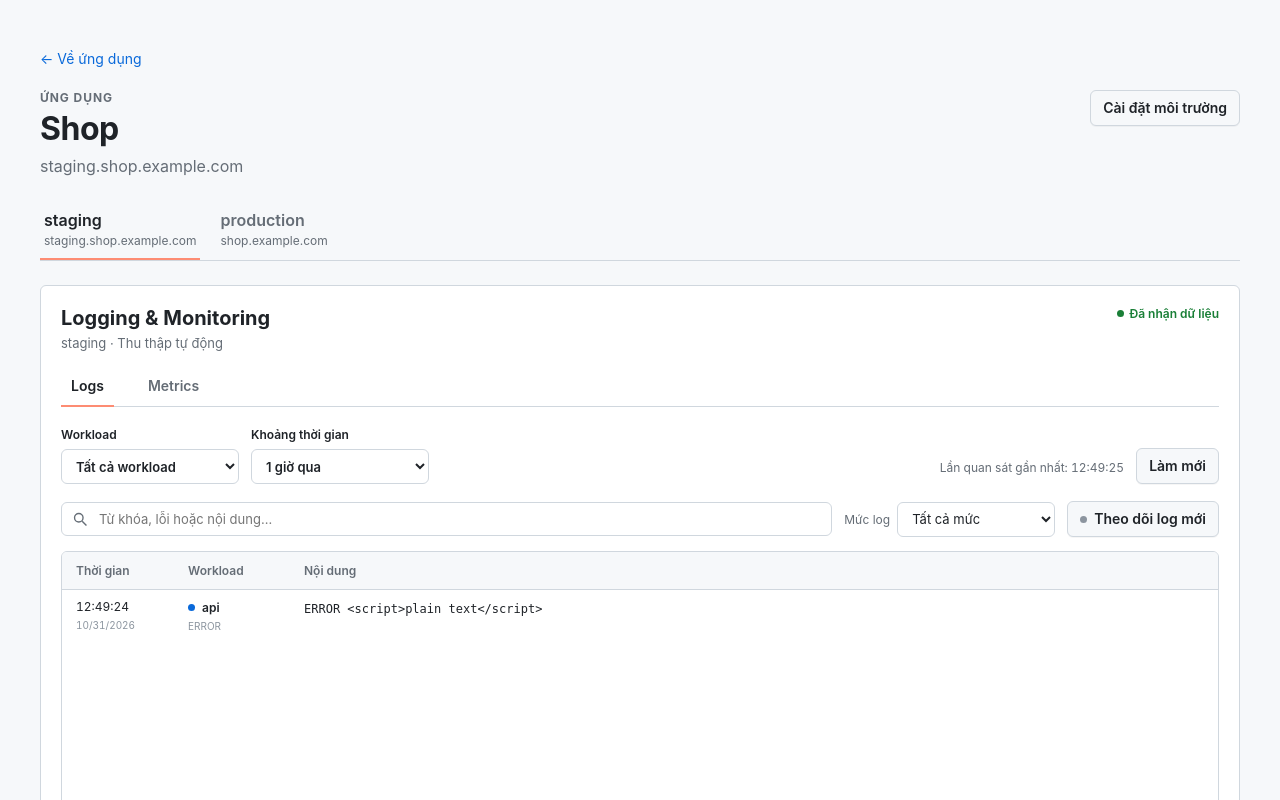
Test case: pauses at the latest followed interval without rewinding received logs
Check: the button "ERROR <script>plain text</script>" is shown, box [304, 599, 1204, 619]
What coordinates should you click on to do the following:
click the button "Theo dõi log mới"
I would click on:
 (1143, 519)
Its box is [1067, 501, 1219, 537].
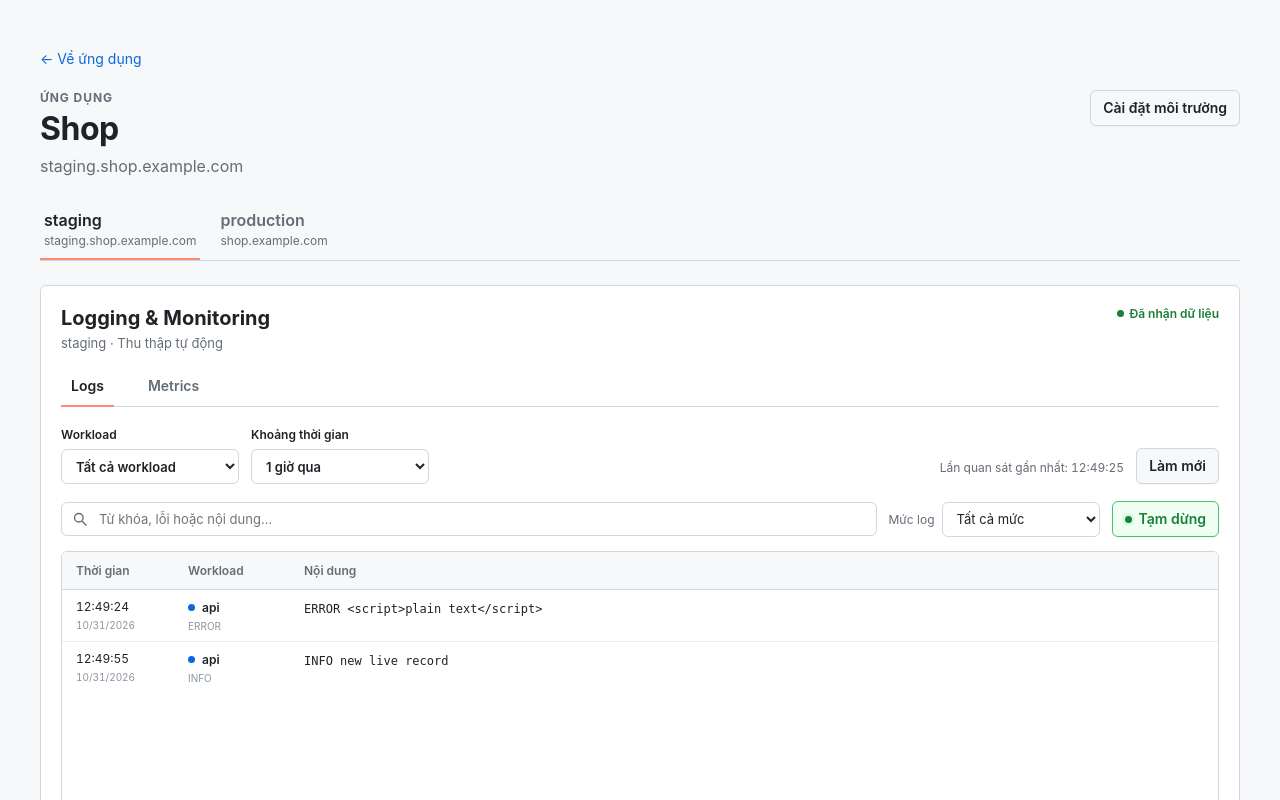
Check: the button "INFO new live record" is shown, box [304, 651, 1204, 671]
What coordinates should you click on to do the following:
click the button "Tạm dừng"
I would click on:
 (1165, 519)
Its box is [1112, 501, 1219, 537].
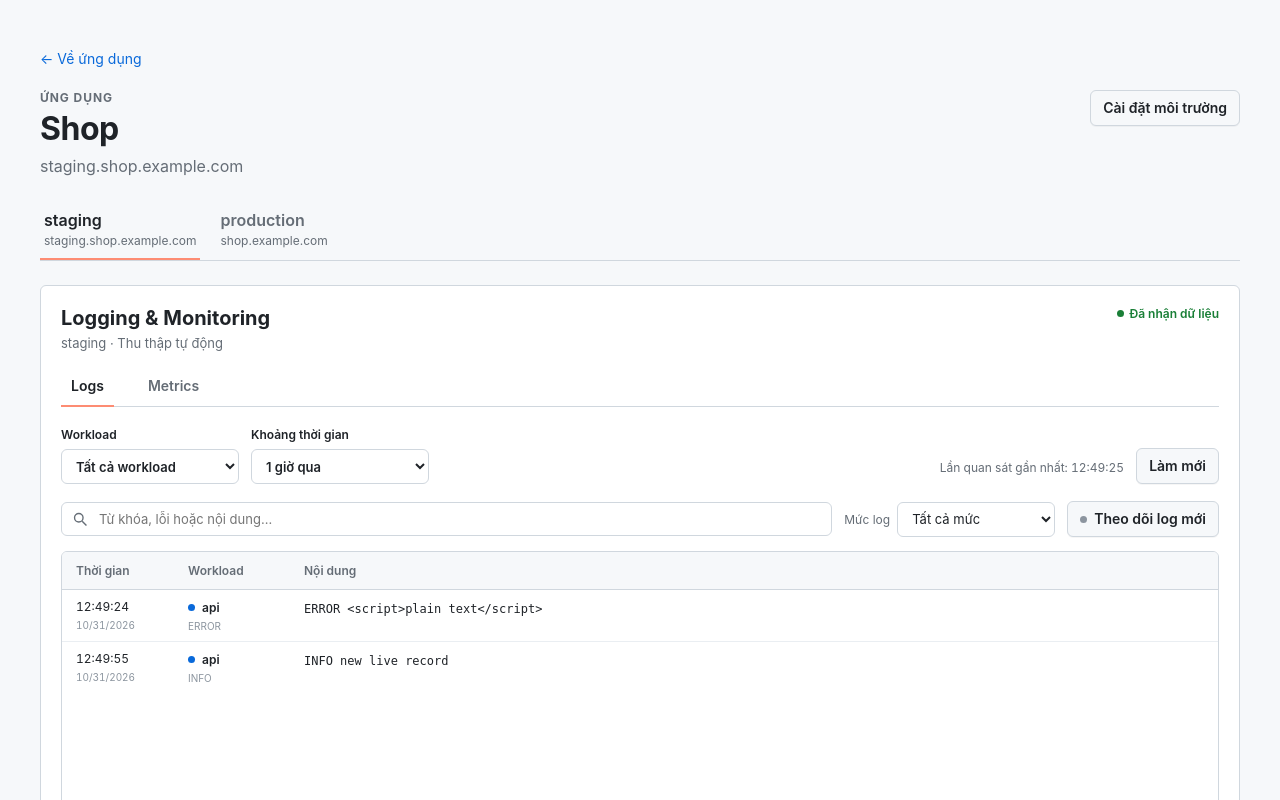
Check: the button "INFO new live record" is shown, box [304, 651, 1204, 671]
Check: the button "Theo dõi log mới" is shown, box [1067, 501, 1219, 537]
